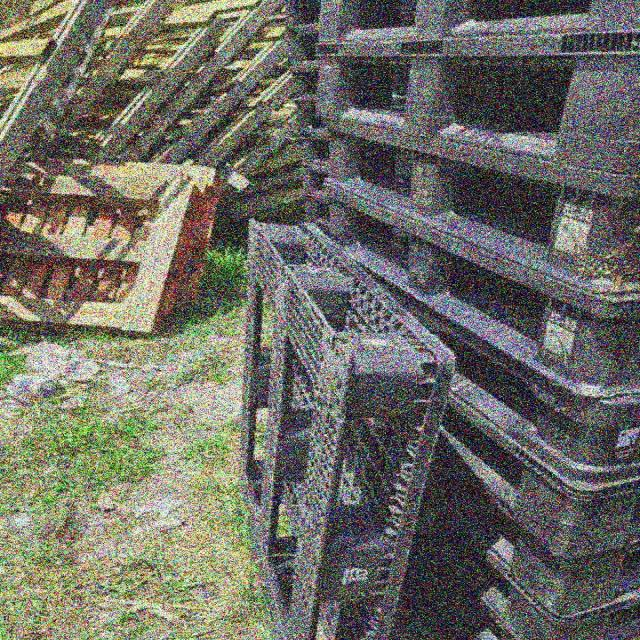non-igps: (303, 210, 640, 508), (231, 212, 459, 640), (308, 178, 640, 418), (307, 110, 640, 312), (395, 420, 640, 624), (311, 47, 640, 185), (0, 148, 227, 344), (395, 466, 640, 640), (427, 391, 640, 564), (300, 0, 639, 70)
